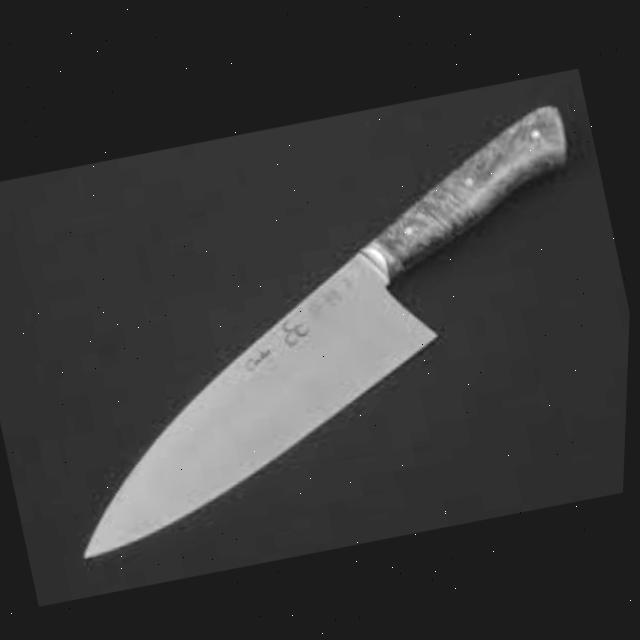Knife: (0, 69, 638, 583)
